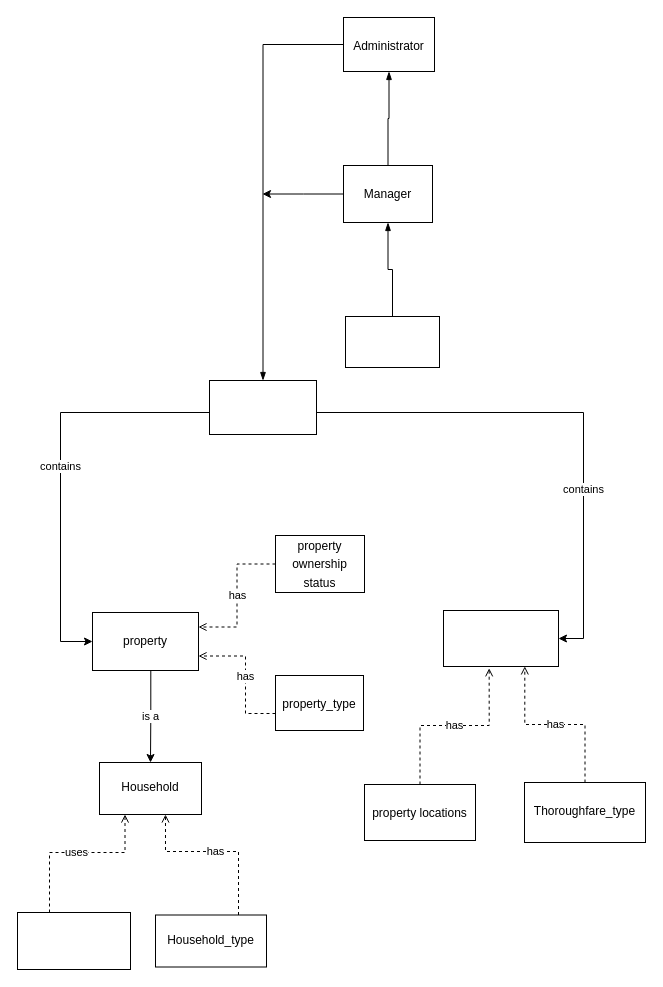
This 663x987 diagram has some shape labels left out. The shapes that lost their labels are listed below. From the top down, each one's centre as x and y in pixels, then its label:
At (x=392, y=342): "Basic_user".
At (x=262, y=407): "Estate".
At (x=500, y=638): "Thoroughfares".
At (x=73, y=941): "payment receipt".
